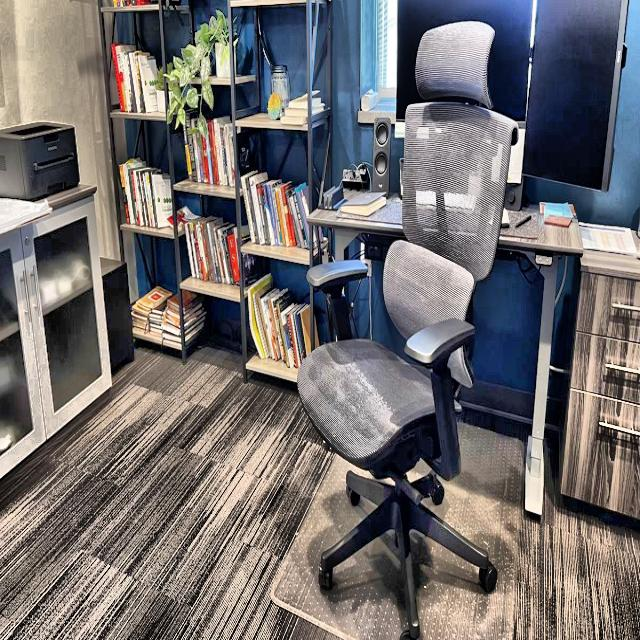cadeira: (296, 16, 523, 640)
